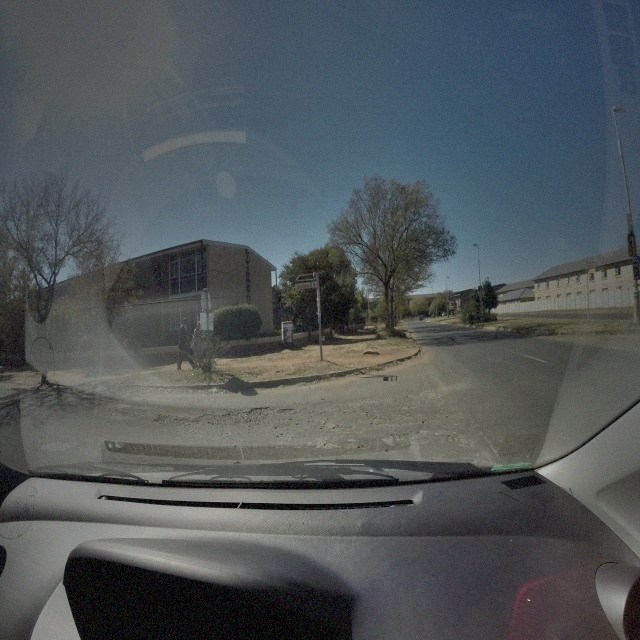pothole: (152, 406, 271, 427), (278, 406, 294, 416)
